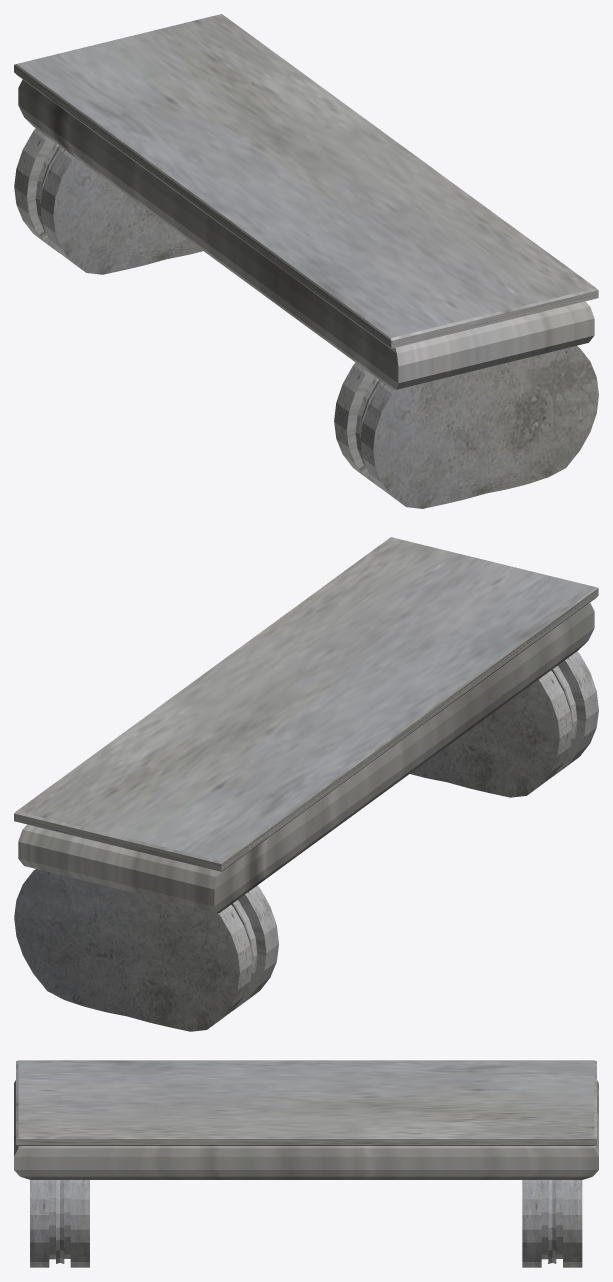
Rendered from stonechair.gltf.
3 views of the same model, one above another, from view 1: azimuth 30°, elevation 25°; view 2: azimuth 150°, elevation 25°; view 3: azimuth 270°, elevation 25° (orthographic). The views are drawn at different scales.
Visible parts, largest first — view 1: Cube, 柱体.001, 柱体; view 2: Cube, 柱体, 柱体.001; view 3: Cube, 柱体, 柱体.001.
Boxes of the visible parts, <box> form: Cube: <box>14,14,598,389</box>; 柱体.001: <box>334,346,598,508</box>; 柱体: <box>14,128,202,274</box>; Cube: <box>14,537,598,912</box>; 柱体: <box>14,869,278,1031</box>; 柱体.001: <box>410,651,598,797</box>; Cube: <box>14,1060,598,1179</box>; 柱体: <box>522,1180,582,1267</box>; 柱体.001: <box>30,1180,89,1267</box>.
Size of the model in its own units: 2.13 by 1.68 by 6.21.
Materials: 3 (3 with a texture image).
